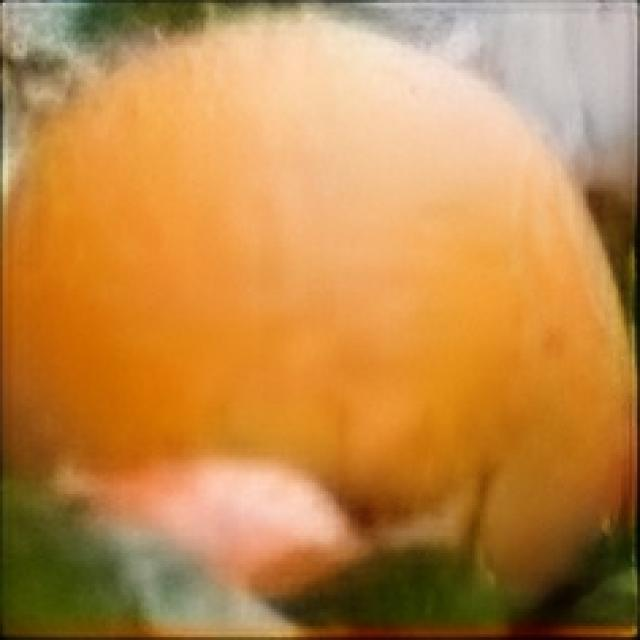food waste: (40, 0, 640, 582)
